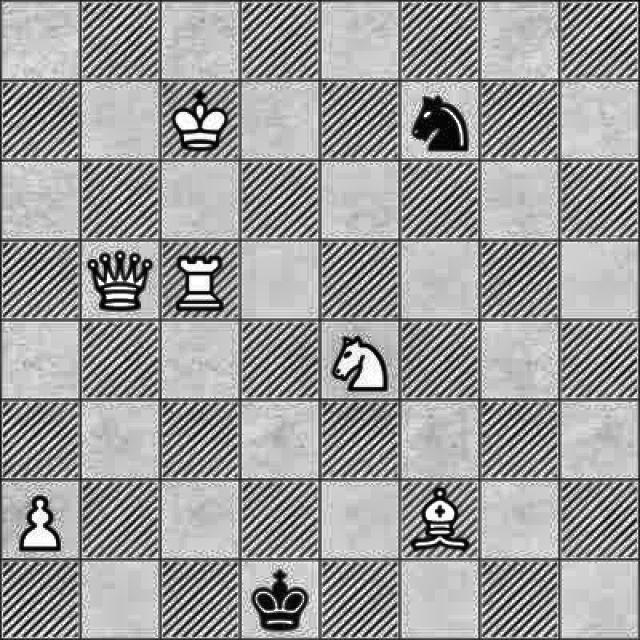Black Knight: (411, 83, 472, 156)
black king: (246, 563, 310, 640)
white bishop: (404, 482, 476, 555)
white king: (166, 79, 234, 159)
white pawn: (8, 493, 74, 554)
white queen: (90, 246, 156, 316)
white rook: (170, 252, 230, 315)
whiteknight: (326, 330, 394, 396)
